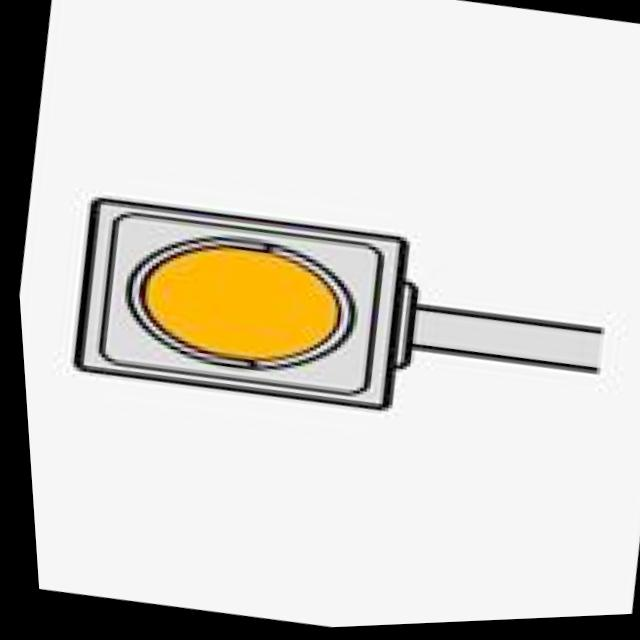yellow_light: (100, 164, 397, 438)
